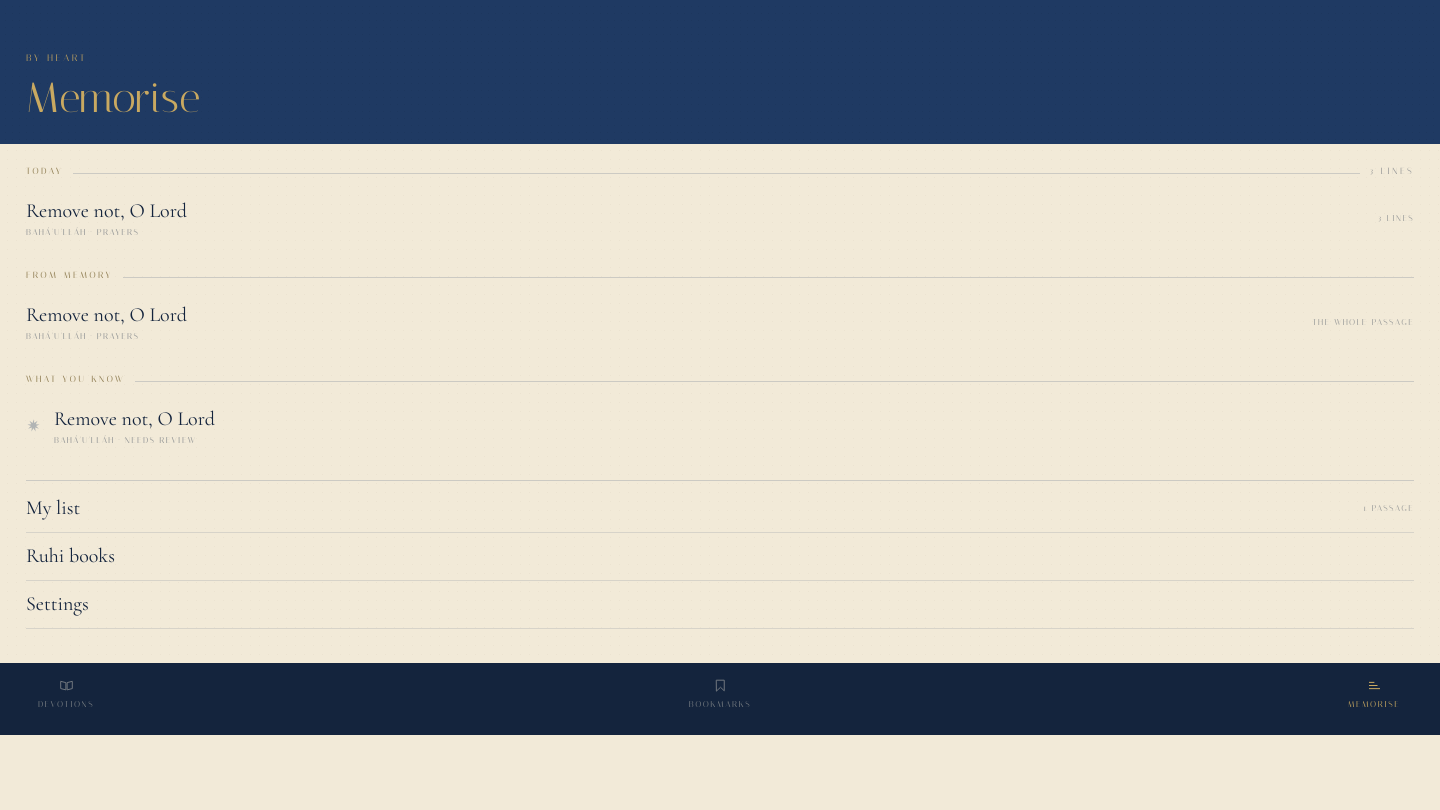
Test: level 5, first letters as a scaffold › shows the first letter of each word and none of the words
Expected: the heading "Memorise" is shown, [26,73,201,123]
Click the link "Remove not, O Lord BAHÁ'U'LLÁH · PRAYERS 3 LINES" at x=106, y=211, box [26,188,1414,248]
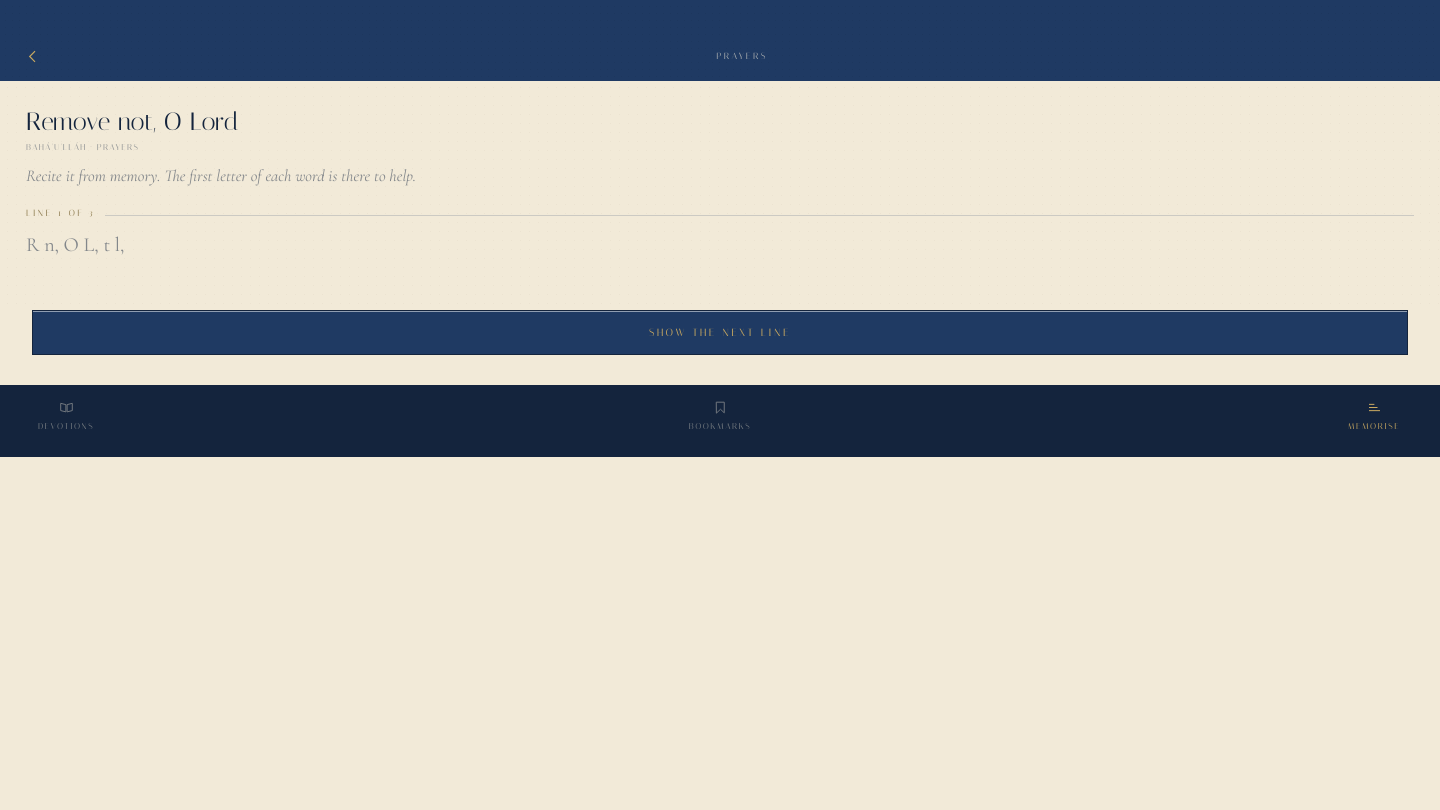
Expected: the text "Recite it from memory. The first letter of each word is there to help." is shown, [26,166,416,186]
